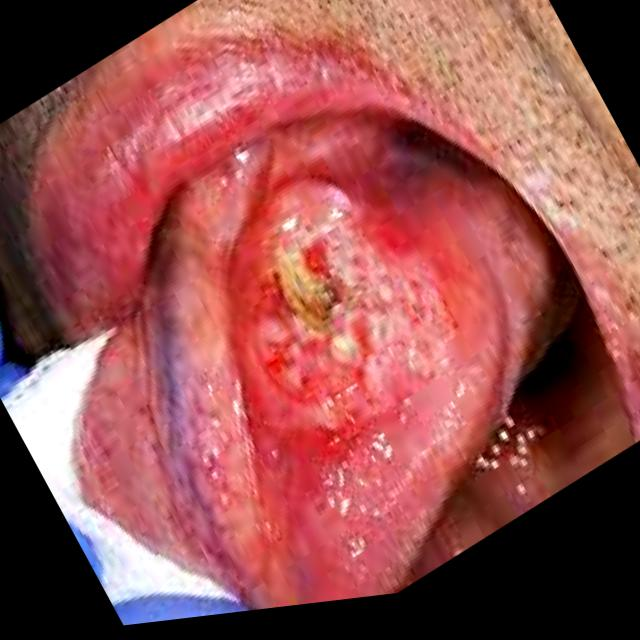ulcer: (279, 245, 339, 334), (271, 183, 351, 240)
